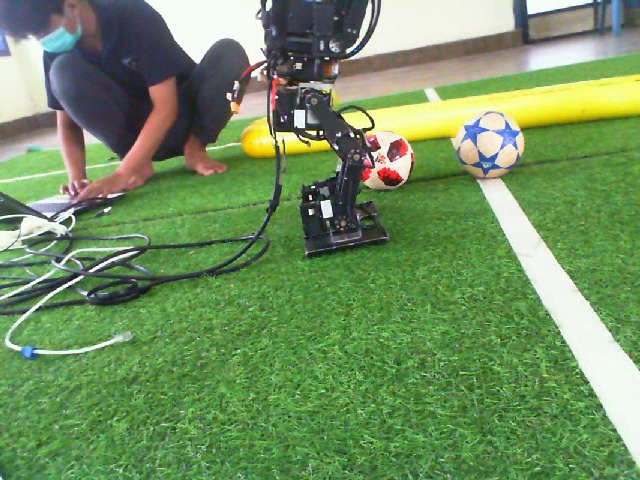ball: (451, 105, 526, 179), (358, 127, 417, 193)
